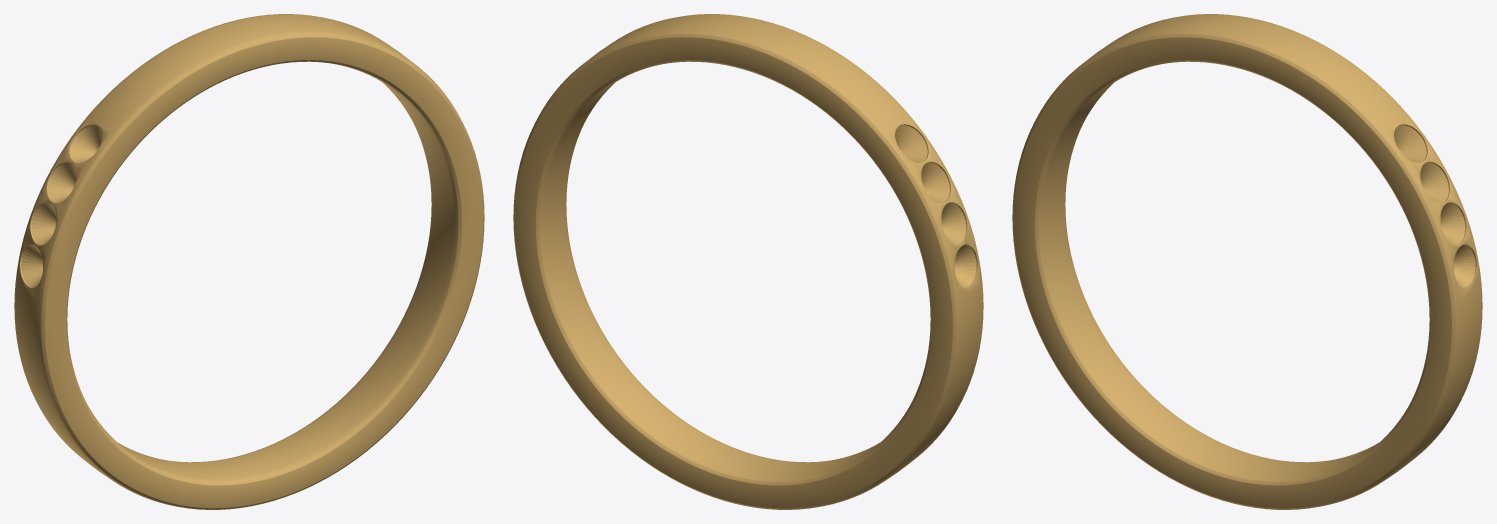
File: soft-square-bezel-accents-head.glb
3 views of the same model, side by side, from view 1: azimuth 30°, elevation 25°; view 2: azimuth 150°, elevation 25°; view 3: azimuth 330°, elevation 25° (orthographic).
Visible parts, largest first — view 1: Band; view 2: Band; view 3: Band.
Boxes of the visible parts, x1,y1,x2,y2 form: Band: (14, 14, 484, 509); Band: (513, 14, 983, 509); Band: (1012, 14, 1482, 509).
Bounding box in the file's own units: 19.6 × 19.6 × 2.3.
